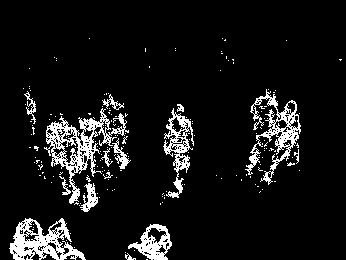person: (45, 113, 80, 201), (165, 103, 195, 200), (266, 99, 301, 180), (247, 88, 279, 171), (80, 116, 108, 208), (99, 91, 129, 168)
